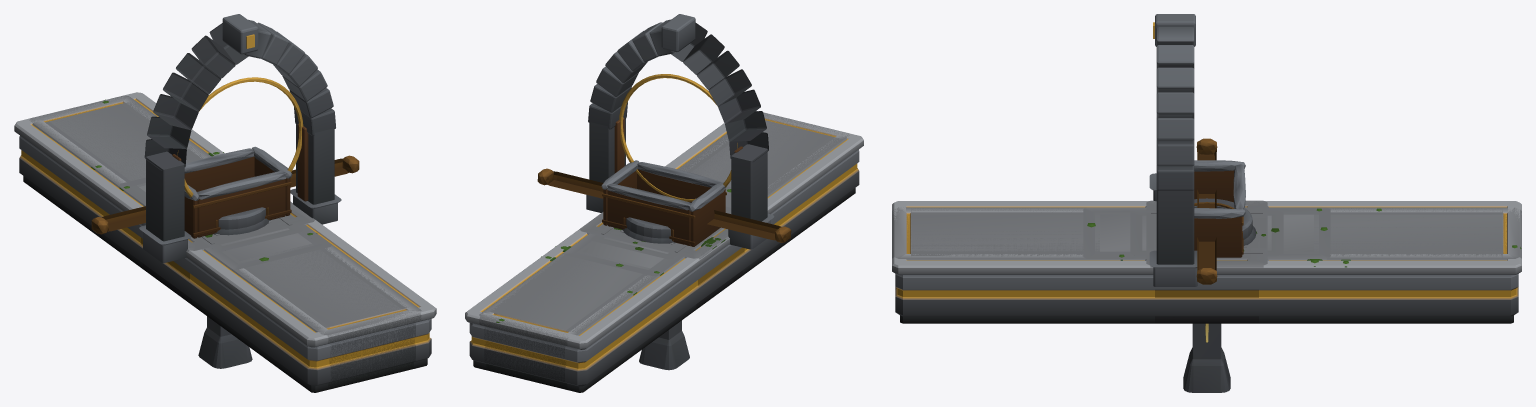
The model's file is temple-1-CQnFcbfY.glb.
The picture shows the model from 3 angles, left to right: view 1: azimuth 30°, elevation 25°; view 2: azimuth 150°, elevation 25°; view 3: azimuth 270°, elevation 25°; orthographic projection. The views are drawn at different scales.
Parts seen in each view (by area): view 1: block_10x2x40#0, block_8x2x40#0, portal_#0, hopper_6x3#0, block_8x2x16#0, support_0_square#0, mount_9.7#0, block_10x2x8#0, geyserVent_3.9#0, block_7x2x10#0, block_10x2x7#0; view 2: block_10x2x40#0, portal_#0, block_8x2x40#0, hopper_6x3#0, mount_9.7#0, block_8x2x16#0, block_10x2x8#0, support_0_square#0, geyserVent_3.9#0, block_7x2x10#0, block_10x2x7#0; view 3: block_10x2x40#0, block_8x2x40#0, portal_#0, block_8x2x16#0, hopper_6x3#0, block_10x2x8#0, support_0_square#0, block_7x2x10#0, mount_9.7#0, block_10x2x7#0, geyserVent_3.9#0.
Boxes of the visible parts, x1=… form: block_10x2x40#0: x1=14, y1=92, x2=436, y2=392; block_8x2x40#0: x1=29, y1=95, x2=421, y2=389; portal_#0: x1=139, y1=14, x2=341, y2=262; hopper_6x3#0: x1=184, y1=146, x2=292, y2=238; block_8x2x16#0: x1=118, y1=177, x2=331, y2=269; support_0_square#0: x1=198, y1=316, x2=252, y2=368; mount_9.7#0: x1=91, y1=155, x2=359, y2=234; block_10x2x8#0: x1=140, y1=201, x2=314, y2=304; geyserVent_3.9#0: x1=213, y1=207, x2=270, y2=235; block_7x2x10#0: x1=199, y1=219, x2=302, y2=251; block_10x2x7#0: x1=146, y1=208, x2=308, y2=301; block_10x2x40#0: x1=465, y1=110, x2=863, y2=392; portal_#0: x1=586, y1=14, x2=774, y2=249; block_8x2x40#0: x1=479, y1=112, x2=849, y2=389; hopper_6x3#0: x1=601, y1=160, x2=726, y2=246; mount_9.7#0: x1=537, y1=168, x2=791, y2=242; block_8x2x16#0: x1=564, y1=186, x2=731, y2=276; block_10x2x8#0: x1=580, y1=212, x2=744, y2=309; support_0_square#0: x1=639, y1=320, x2=689, y2=370; geyserVent_3.9#0: x1=622, y1=217, x2=675, y2=243; block_7x2x10#0: x1=591, y1=206, x2=731, y2=259; block_10x2x7#0: x1=583, y1=213, x2=741, y2=301; block_10x2x40#0: x1=892, y1=201, x2=1521, y2=323; block_8x2x40#0: x1=892, y1=207, x2=1521, y2=289; portal_#0: x1=1149, y1=14, x2=1197, y2=286; block_8x2x16#0: x1=1083, y1=207, x2=1330, y2=260; hopper_6x3#0: x1=1194, y1=160, x2=1245, y2=257; block_10x2x8#0: x1=1145, y1=200, x2=1268, y2=323; support_0_square#0: x1=1183, y1=323, x2=1230, y2=392; block_7x2x10#0: x1=1130, y1=210, x2=1283, y2=255; mount_9.7#0: x1=1196, y1=138, x2=1217, y2=284; block_10x2x7#0: x1=1154, y1=200, x2=1259, y2=323; geyserVent_3.9#0: x1=1194, y1=198, x2=1256, y2=245.
Size of the model in its own units: 20.3 by 25.59 by 40.
